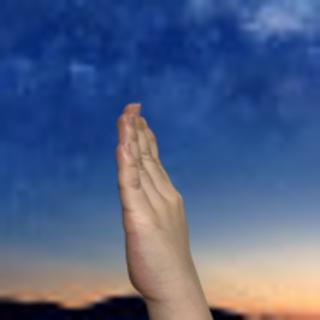RIGHT: (112, 99, 207, 301)
